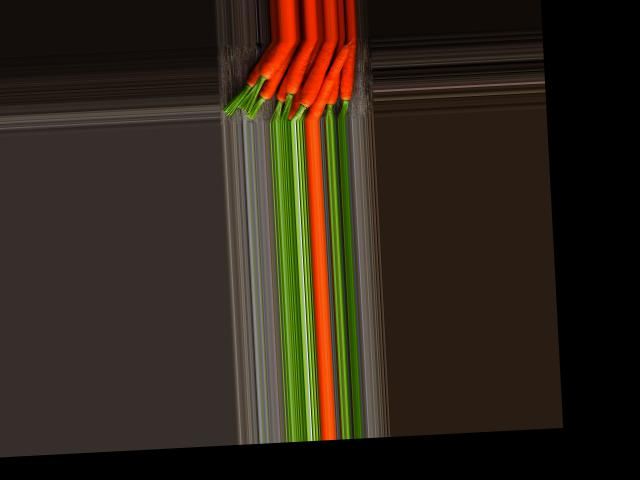carrot: (256, 42, 294, 112)
